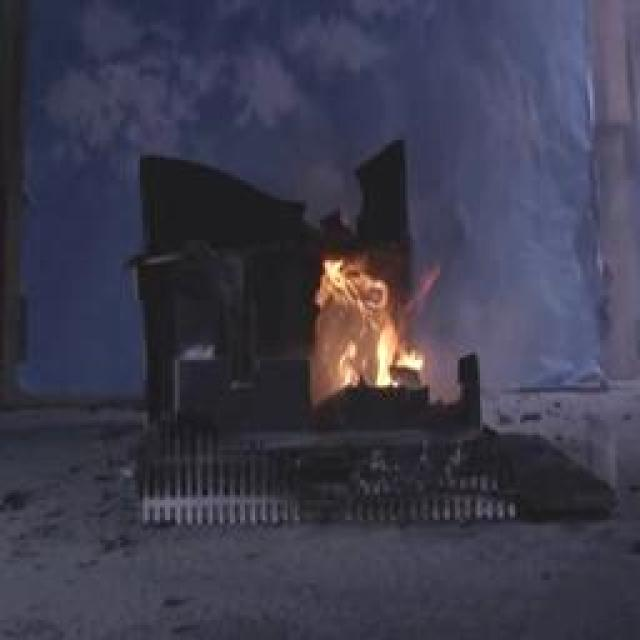fire: (306, 217, 449, 415)
